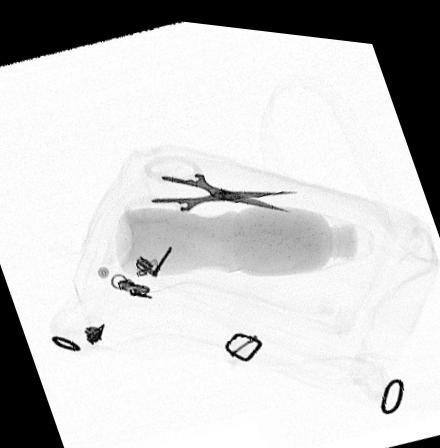Scissors: (125, 150, 299, 222)
